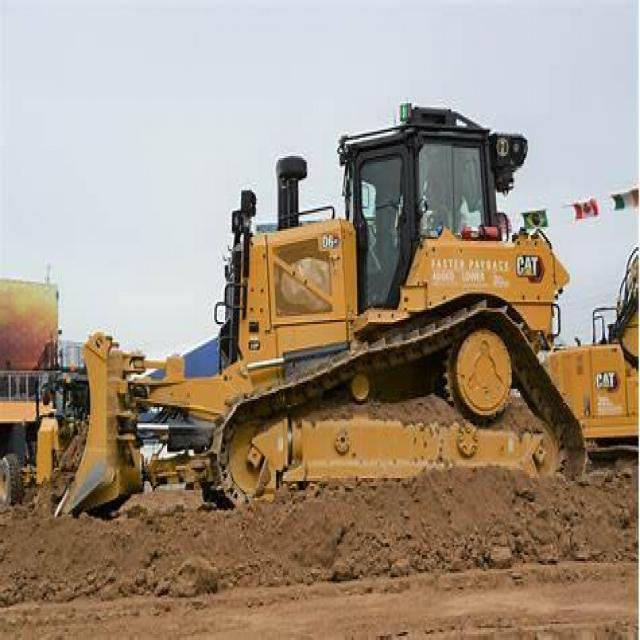Bulldozer: (54, 87, 605, 531)
